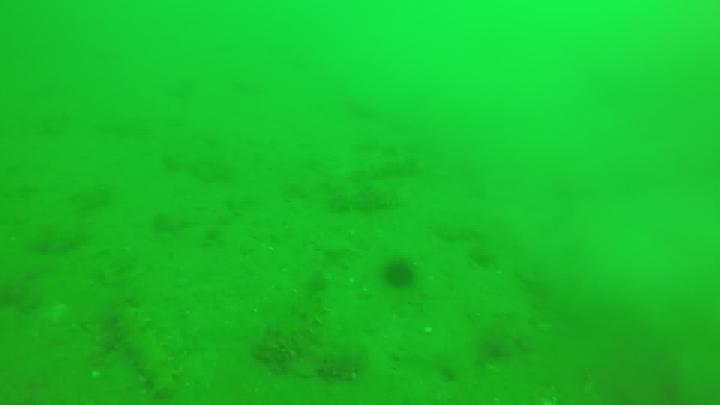echinus: (387, 260, 416, 293)
holothurian: (254, 272, 333, 371), (107, 307, 178, 393), (333, 189, 407, 215)
